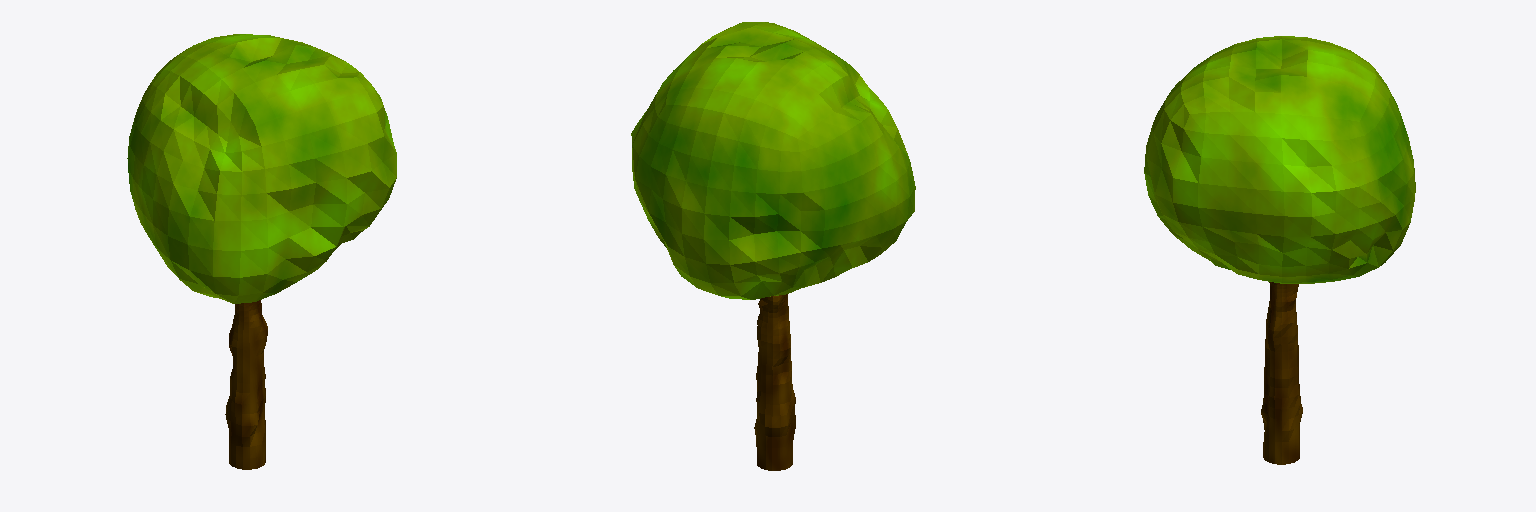
3 views of the same model, side by side, from view 1: azimuth 30°, elevation 25°; view 2: azimuth 150°, elevation 25°; view 3: azimuth 270°, elevation 25° (orthographic).
Visible parts, largest first — view 1: Cube; view 2: Cube; view 3: Cube.
Part boxes in pixels (left/top/right/bottom): Cube: left=127, top=34, right=396, bottom=469; Cube: left=631, top=22, right=915, bottom=470; Cube: left=1144, top=36, right=1415, bottom=464.
Bounding box in the file's own units: 3.68 × 6.21 × 3.74.
1 materials, 1 textured.